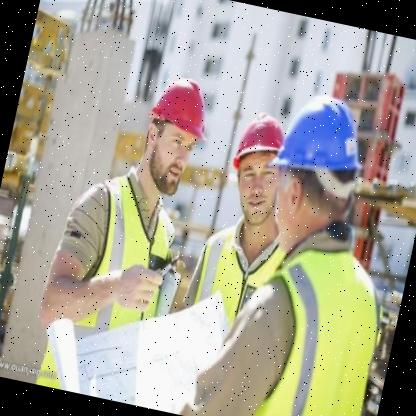capacete: (255, 86, 381, 256), (134, 71, 218, 201), (218, 108, 298, 234)
colete_refletivo: (22, 155, 188, 402), (216, 212, 404, 415), (157, 195, 293, 415)
